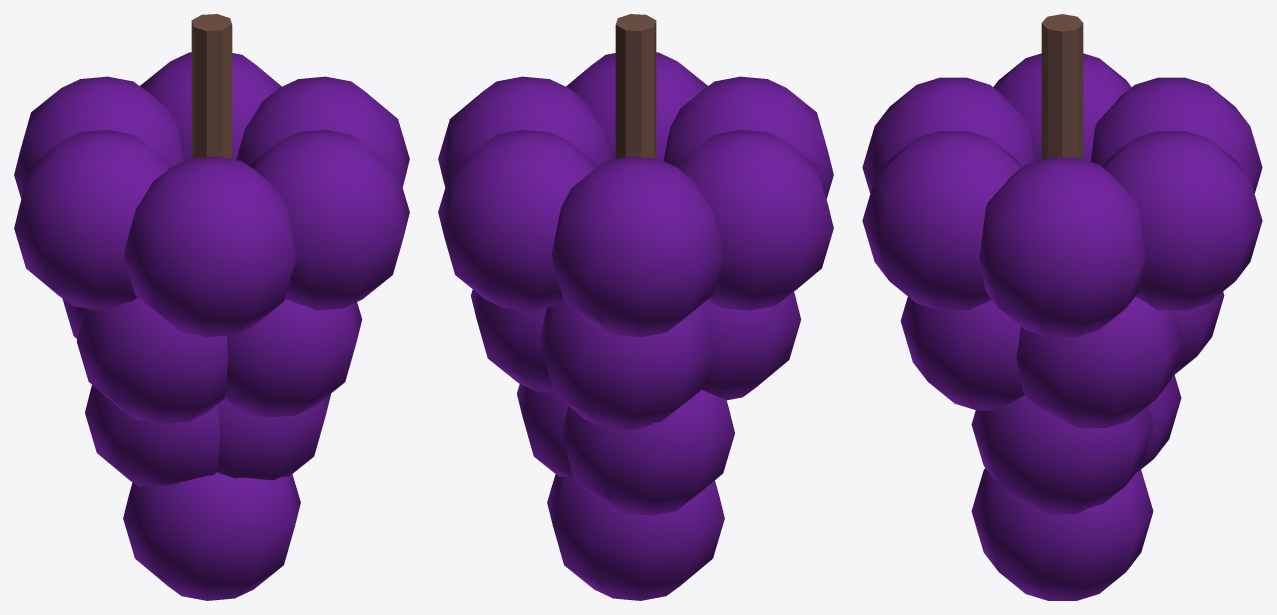
The model's file is Grapes.fbx.
3 renders of one model, left to right at view 1: azimuth 30°, elevation 25°; view 2: azimuth 150°, elevation 25°; view 3: azimuth 270°, elevation 25°, orthographic.
Parts seen in each view (by area): view 1: Grapes; view 2: Grapes; view 3: Grapes.
Boxes of the visible parts, <box> form: Grapes: <box>14,14,409,600</box>; Grapes: <box>438,14,833,600</box>; Grapes: <box>862,14,1262,600</box>.
Size of the model in its own units: 0.0607 by 0.09 by 0.0572.
